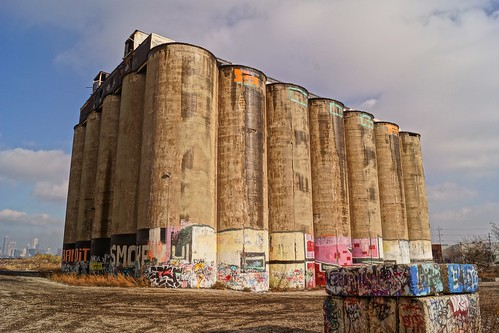building: (65, 59, 431, 302)
graffiti: (59, 243, 223, 291), (323, 265, 438, 333), (417, 265, 483, 331)
sky: (1, 1, 499, 218)
